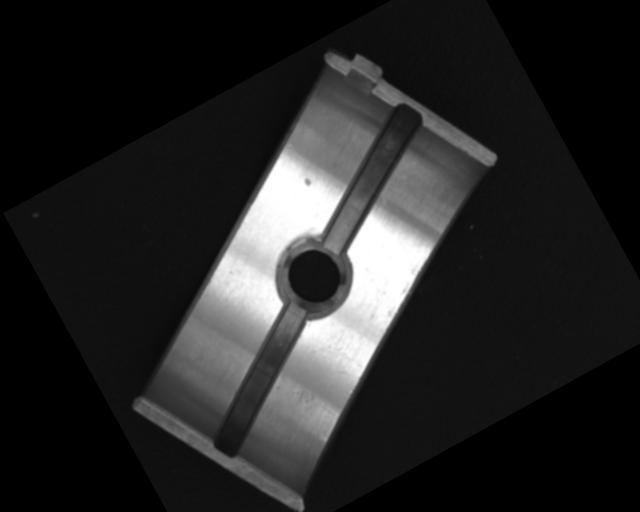bruise: (300, 174, 313, 187)
gap: (171, 299, 348, 461), (284, 98, 460, 258)
hole: (267, 231, 357, 324)
